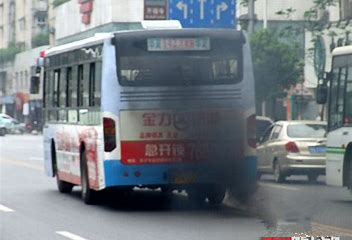smoke: (181, 107, 273, 218)
